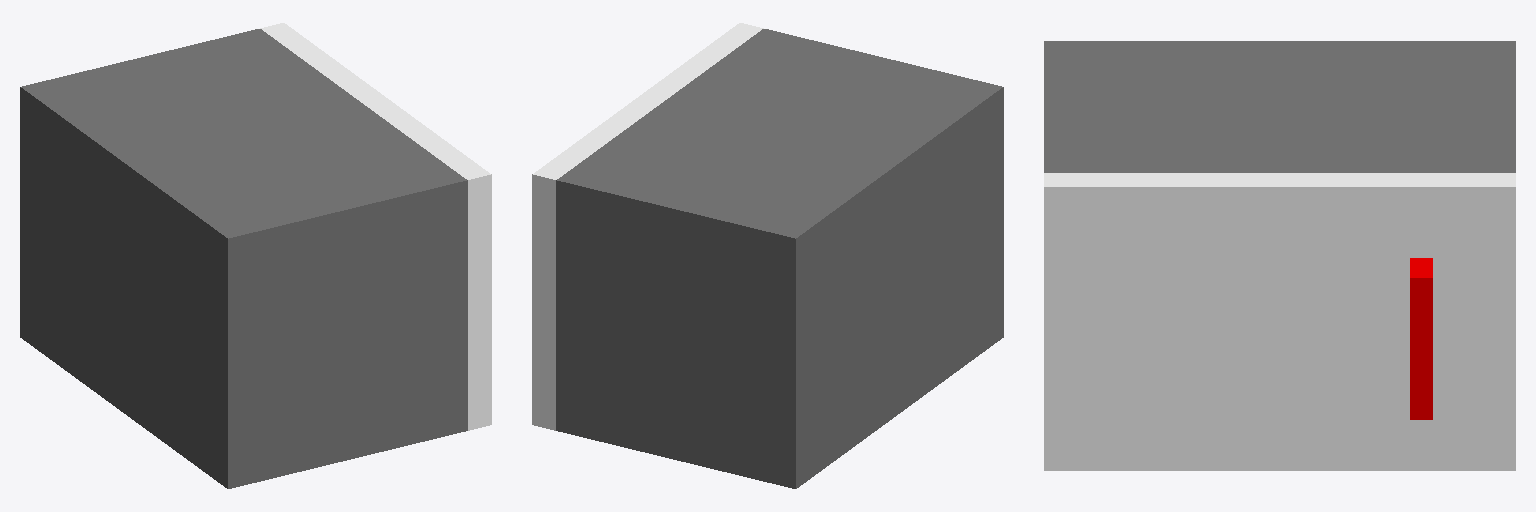
robot.urdf — microwave:
<?xml version="1.0"?>
<robot name="microwave">

  <link name="bottom">
    <visual>
      <geometry>
        <box size="0.2 0.3 0.02"/>
      </geometry>
      <material name="gray"/>
      <origin xyz="0 0 -0.09"/>
    </visual>
    <collision>
      <geometry>
        <box size="0.2 0.3 0.02"/>
      </geometry>
      <origin xyz="0 0 -0.09"/>
    </collision>
    <inertial>
      <mass value="1"/>
      <inertia ixx="1" ixy="0.0" ixz="0.0" iyy="1" iyz="0.0" izz="1"/>
    </inertial>
  </link>

  <link name="top">
    <visual>
      <geometry>
        <box size="0.2 0.3 0.02"/>
      </geometry>
      <material name="gray"/>
      <origin xyz="0 0 0.09"/>
    </visual>
    <collision>
      <geometry>
        <box size="0.2 0.3 0.02"/>
      </geometry>
      <origin xyz="0 0 0.09"/>
    </collision>
    <inertial>
      <mass value="1"/>
      <inertia ixx="1" ixy="0.0" ixz="0.0" iyy="1" iyz="0.0" izz="1"/>
    </inertial>
  </link>

  <link name="left_side">
    <visual>
      <geometry>
        <box size="0.2 0.02 0.2"/>
      </geometry>
      <material name="gray"/>
      <origin xyz="0 -0.14 0"/>
    </visual>
    <collision>
      <geometry>
        <box size="0.2 0.02 0.2"/>
      </geometry>
      <origin xyz="0 -0.14 0"/>
    </collision>
    <inertial>
      <mass value="1"/>
      <inertia ixx="1" ixy="0.0" ixz="0.0" iyy="1" iyz="0.0" izz="1"/>
    </inertial>
  </link>

  <link name="right_side">
    <visual>
      <geometry>
        <box size="0.2 0.02 0.2"/>
      </geometry>
      <material name="gray"/>
      <origin xyz="0 0.14 0"/>
    </visual>
    <collision>
      <geometry>
        <box size="0.2 0.02 0.2"/>
      </geometry>
      <origin xyz="0 0.14 0"/>
    </collision>
    <inertial>
      <mass value="1"/>
      <inertia ixx="1" ixy="0.0" ixz="0.0" iyy="1" iyz="0.0" izz="1"/>
    </inertial>
  </link>

  <link name="back">
    <visual>
      <geometry>
        <box size="0.02 0.3 0.2"/>
      </geometry>
      <material name="gray"/>
      <origin xyz="-0.09 0 0"/>
    </visual>
    <collision>
      <geometry>
        <box size="0.02 0.3 0.2"/>
      </geometry>
      <origin xyz="-0.09 0 0"/>
    </collision>
    <inertial>
      <mass value="1"/>
      <inertia ixx="1" ixy="0.0" ixz="0.0" iyy="1" iyz="0.0" izz="1"/>
    </inertial>
  </link>

  <link name="door">
    <visual>
      <geometry>
        <box size="0.02 0.3 0.2"/>
      </geometry>
      <material name="white"/>
      <origin xyz="0 0.14 0"/>
    </visual>
    <collision>
      <geometry>
        <box size="0.02 0.3 0.2"/>
      </geometry>
      <origin xyz="0 0.14 0"/>
    </collision>
    <inertial>
      <mass value="0.1"/>
      <inertia ixx="0.001" ixy="0.0" ixz="0.0" iyy="0.001" iyz="0.0" izz="0.001"/>
    </inertial>
  </link>

  <link name="door_handle">
    <contact>
       <lateral_friction value="2.0"/>
       <spinning_friction value="0.01"/>
    </contact>
    <visual>
      <geometry>
        <box size="0.04 0.015 0.1"/>
      </geometry>
      <material name="red"/>
    </visual>
    <collision>
      <geometry>
        <box size="0.04 0.015 0.1"/>
      </geometry>
    </collision>
    <inertial>
      <mass value="0.1"/>
      <inertia ixx="0.001" ixy="0.0" ixz="0.0" iyy="0.001" iyz="0.0" izz="0.001"/>
    </inertial>
  </link>

  <joint name="hinge" type="revolute">
    <axis xyz="0 0 1"/>
    <limit effort="1000.0" lower="-1.5" upper="0." velocity="40"/>
    <parent link="left_side"/>
    <child link="door"/>
    <origin xyz="0.11 -0.14 0"/>
    <dynamics damping="0.01" friction="0.01"/>
  </joint>

  <joint name="left-bottom" type="fixed">
    <parent link="left_side"/>
    <child link="bottom"/>
  </joint>

  <joint name="left-right" type="fixed">
    <parent link="left_side"/>
    <child link="right_side"/>
  </joint>

  <joint name="left-top" type="fixed">
    <parent link="left_side"/>
    <child link="top"/>
  </joint>

  <joint name="left-back" type="fixed">
    <parent link="left_side"/>
    <child link="back"/>
  </joint>

  <joint name="handle" type="fixed">
    <parent link="door"/>
    <child link="door_handle"/>
    <origin xyz="0.02 0.23 0"/>
  </joint>

  <material name="gray">
    <color rgba="0.5 0.5 0.5 1"/>
  </material>

  <material name="white">
    <color rgba="1 1 1 1"/>
  </material>

  <material name="red">
    <color rgba="1 0 0 1"/>
  </material>

</robot>

--- Facts derived from the render (not from the file) ---
The picture shows the robot from 3 angles, left to right: view 1: azimuth 30°, elevation 25°; view 2: azimuth 150°, elevation 25°; view 3: azimuth 270°, elevation 25°; orthographic projection.
Robot: microwave — 7 links, 6 joints (1 revolute, 5 fixed); root link left_side; default pose: every joint at zero.
Visible links, largest first — view 1: left_side, top, back, door, bottom, right_side; view 2: top, right_side, back, door, bottom, left_side; view 3: door, top, back, door_handle, left_side, right_side.
Link boxes in pixels (bbox=[...]): left_side: bbox=[214, 170, 467, 488]; top: bbox=[20, 29, 467, 262]; back: bbox=[20, 83, 251, 487]; door: bbox=[260, 23, 491, 430]; bottom: bbox=[20, 324, 467, 488]; right_side: bbox=[20, 29, 261, 346]; top: bbox=[556, 29, 1003, 263]; right_side: bbox=[556, 170, 809, 488]; back: bbox=[772, 81, 1003, 487]; door: bbox=[532, 23, 763, 430]; bottom: bbox=[556, 315, 1003, 488]; left_side: bbox=[756, 29, 1003, 346]; door: bbox=[1044, 173, 1515, 470]; top: bbox=[1044, 41, 1515, 172]; back: bbox=[1044, 41, 1515, 53]; door_handle: bbox=[1410, 258, 1432, 419]; left_side: bbox=[1044, 41, 1075, 172]; right_side: bbox=[1484, 41, 1515, 172].
Bounding box of the posed robot: 0.25 × 0.3 × 0.2 m (x, y, z).
Geometry: primitives only (box / cylinder / sphere), no mesh files.